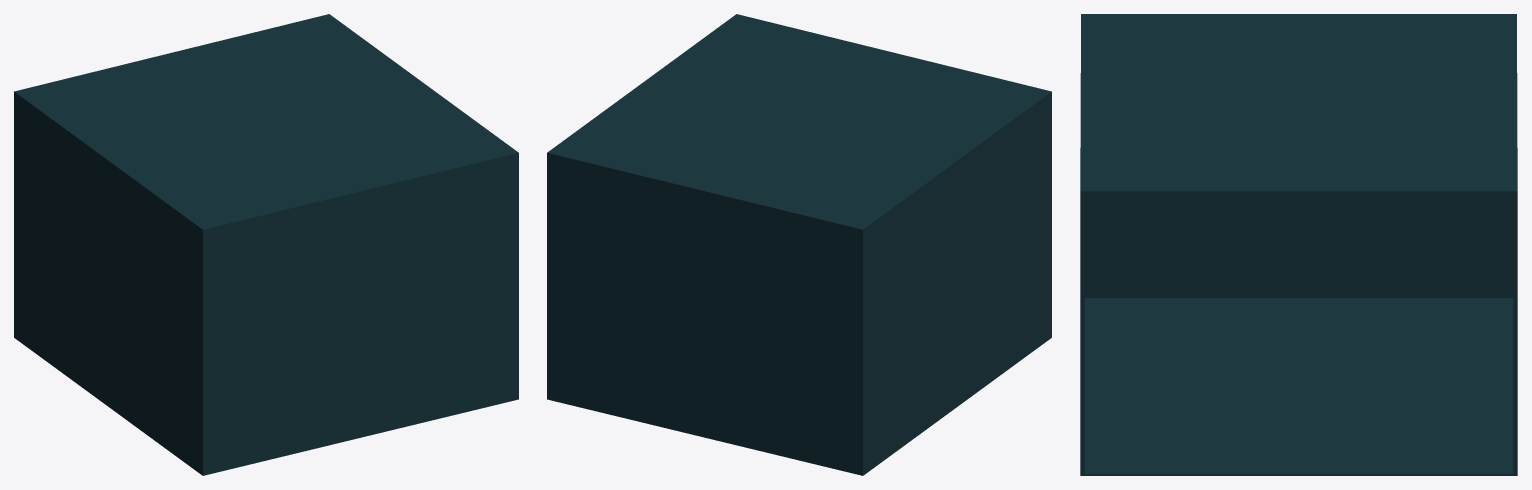
File: Conference_forAR_Hider_2.glb
3 views of the same model, side by side, from view 1: azimuth 30°, elevation 25°; view 2: azimuth 150°, elevation 25°; view 3: azimuth 270°, elevation 25° (orthographic). The views are drawn at different scales.
Parts seen in each view (by area): view 1: Plane.001; view 2: Plane.001; view 3: Plane.001.
Boxes of the visible parts, x1=… form: Plane.001: x1=14, y1=14, x2=518, y2=475; Plane.001: x1=547, y1=14, x2=1051, y2=475; Plane.001: x1=1080, y1=14, x2=1517, y2=475.
Bounding box in the file's own units: 24.92 × 18.61 × 25.92.
